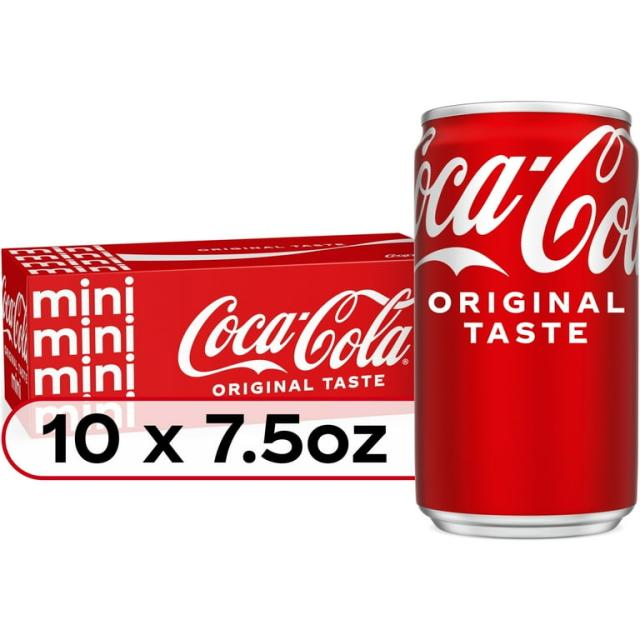cocacola: (408, 99, 636, 538)
